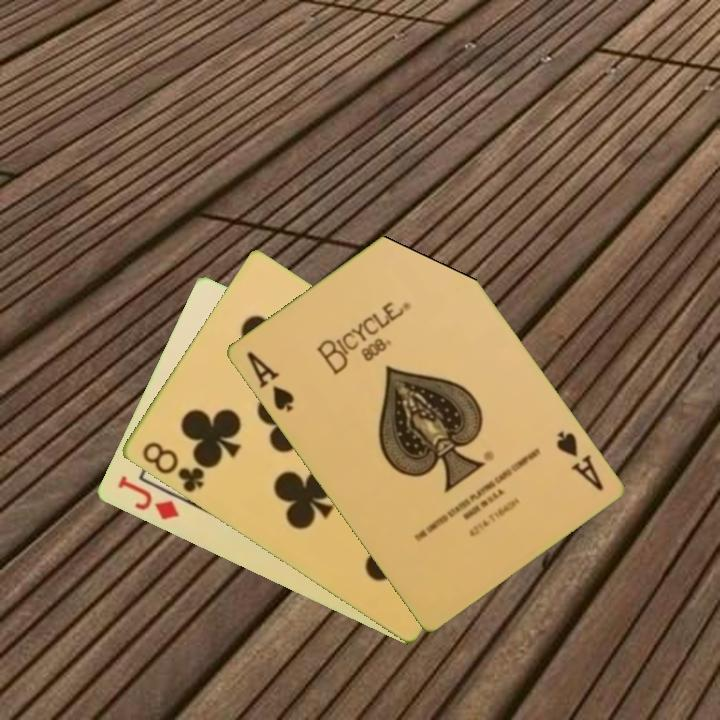8c: (138, 438, 207, 496)
As: (242, 347, 297, 415), (552, 427, 606, 494)
Jd: (113, 472, 182, 524)
